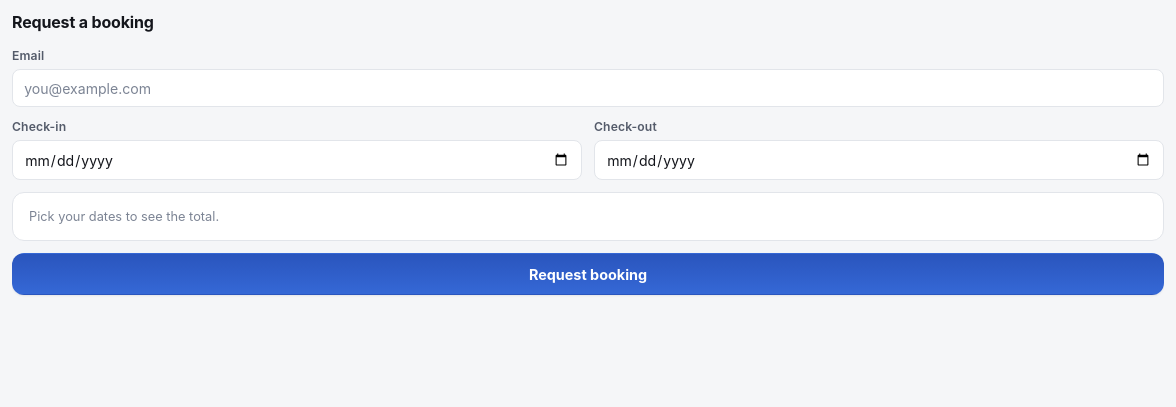
Scenario: BookingPanel › surfaces a generic error when the repository rejects
Type "a@b.co" into the field labelled "Email". click: {"x": 588, "y": 88}
box: x1=12 y1=69 x2=1164 y2=107
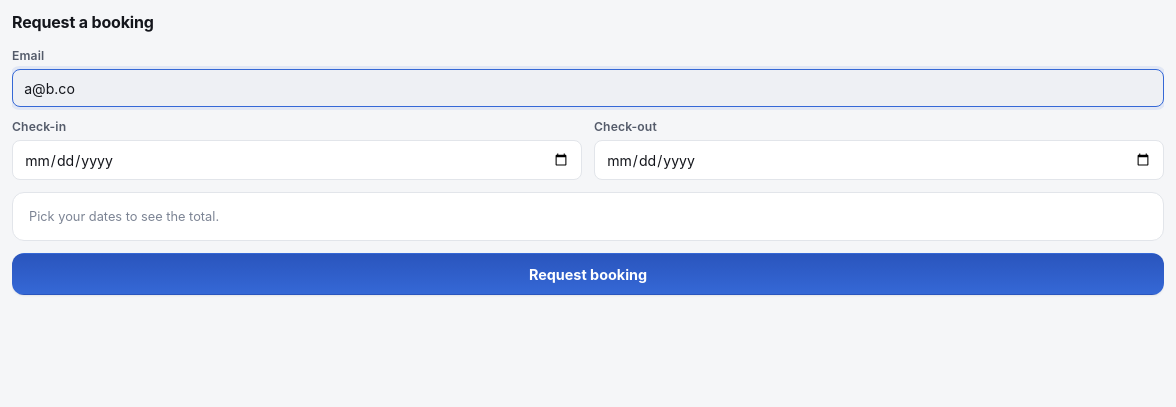
Type "2025-05-01" into the date field labelled "Check-in". click: {"x": 297, "y": 160}
box: x1=12 y1=140 x2=582 y2=180
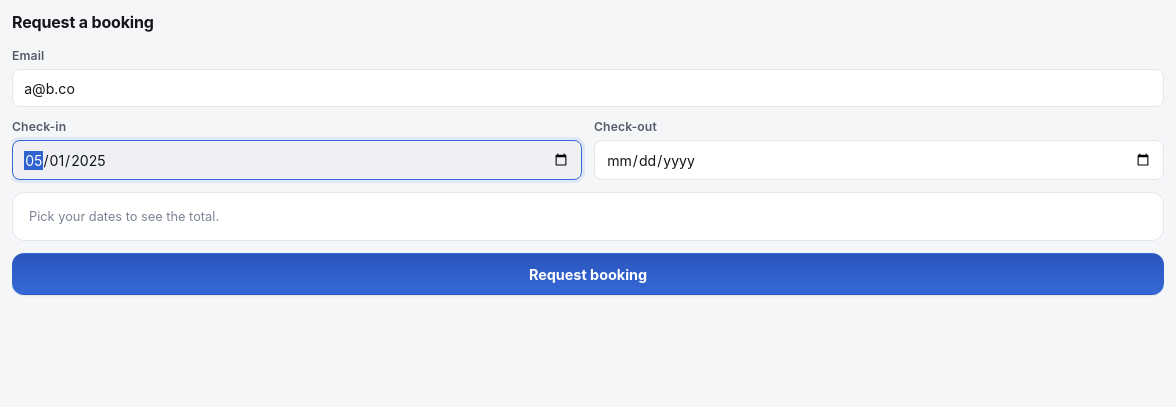
Type "2025-05-03" into the date field labelled "Check-out". click: {"x": 879, "y": 160}
box: x1=594 y1=140 x2=1164 y2=180
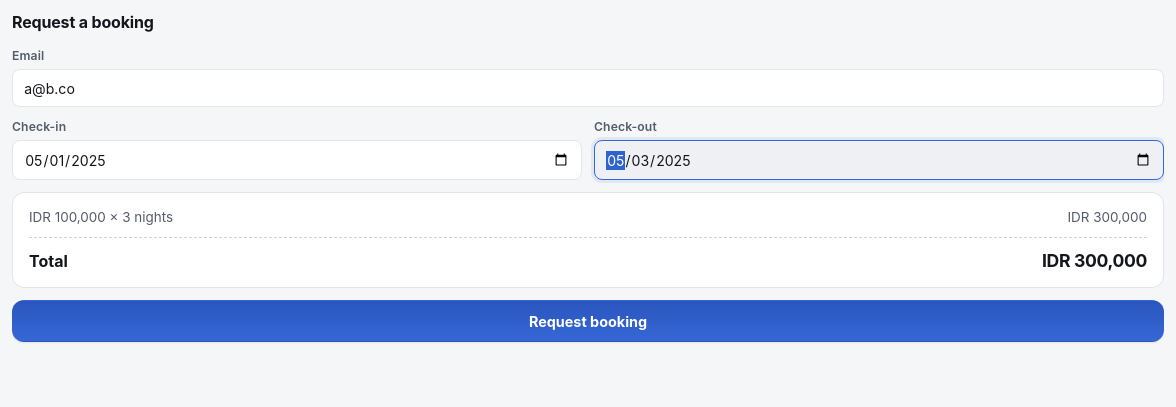
Click the button "Request booking". click: {"x": 588, "y": 321}
box: x1=12 y1=300 x2=1164 y2=342
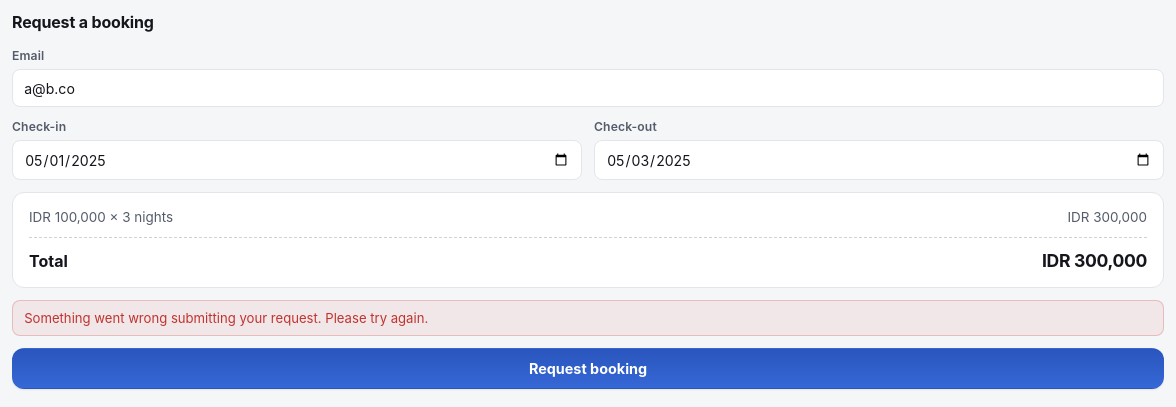
expect the message shows "went wrong": met, box x1=24 y1=310 x2=428 y2=326
